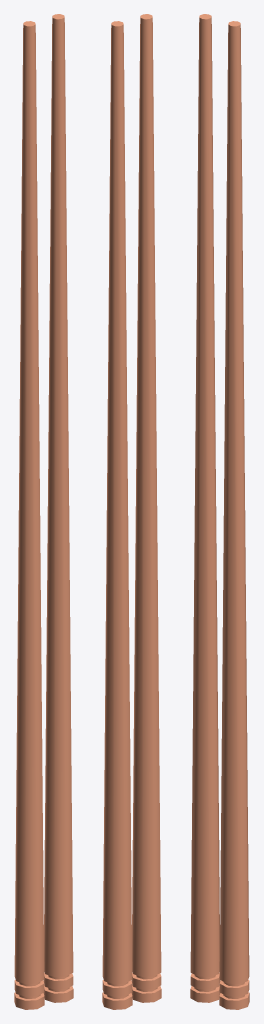
The model's file is chopsticks_002.glb.
3 views of the same model, side by side, from view 1: azimuth 30°, elevation 25°; view 2: azimuth 210°, elevation 25°; view 3: azimuth 330°, elevation 25° (orthographic).
Visible parts, largest first — view 1: chopsticks.002; view 2: chopsticks.002; view 3: chopsticks.002.
Boxes of the visible parts, x1,y1,x2,y2 form: chopsticks.002: (14, 14, 73, 1009); chopsticks.002: (102, 14, 161, 1009); chopsticks.002: (190, 14, 249, 1009).
Bounding box in the file's own units: 0.33 × 5.51 × 0.1591.
Materials: 1 (1 with a texture image).
